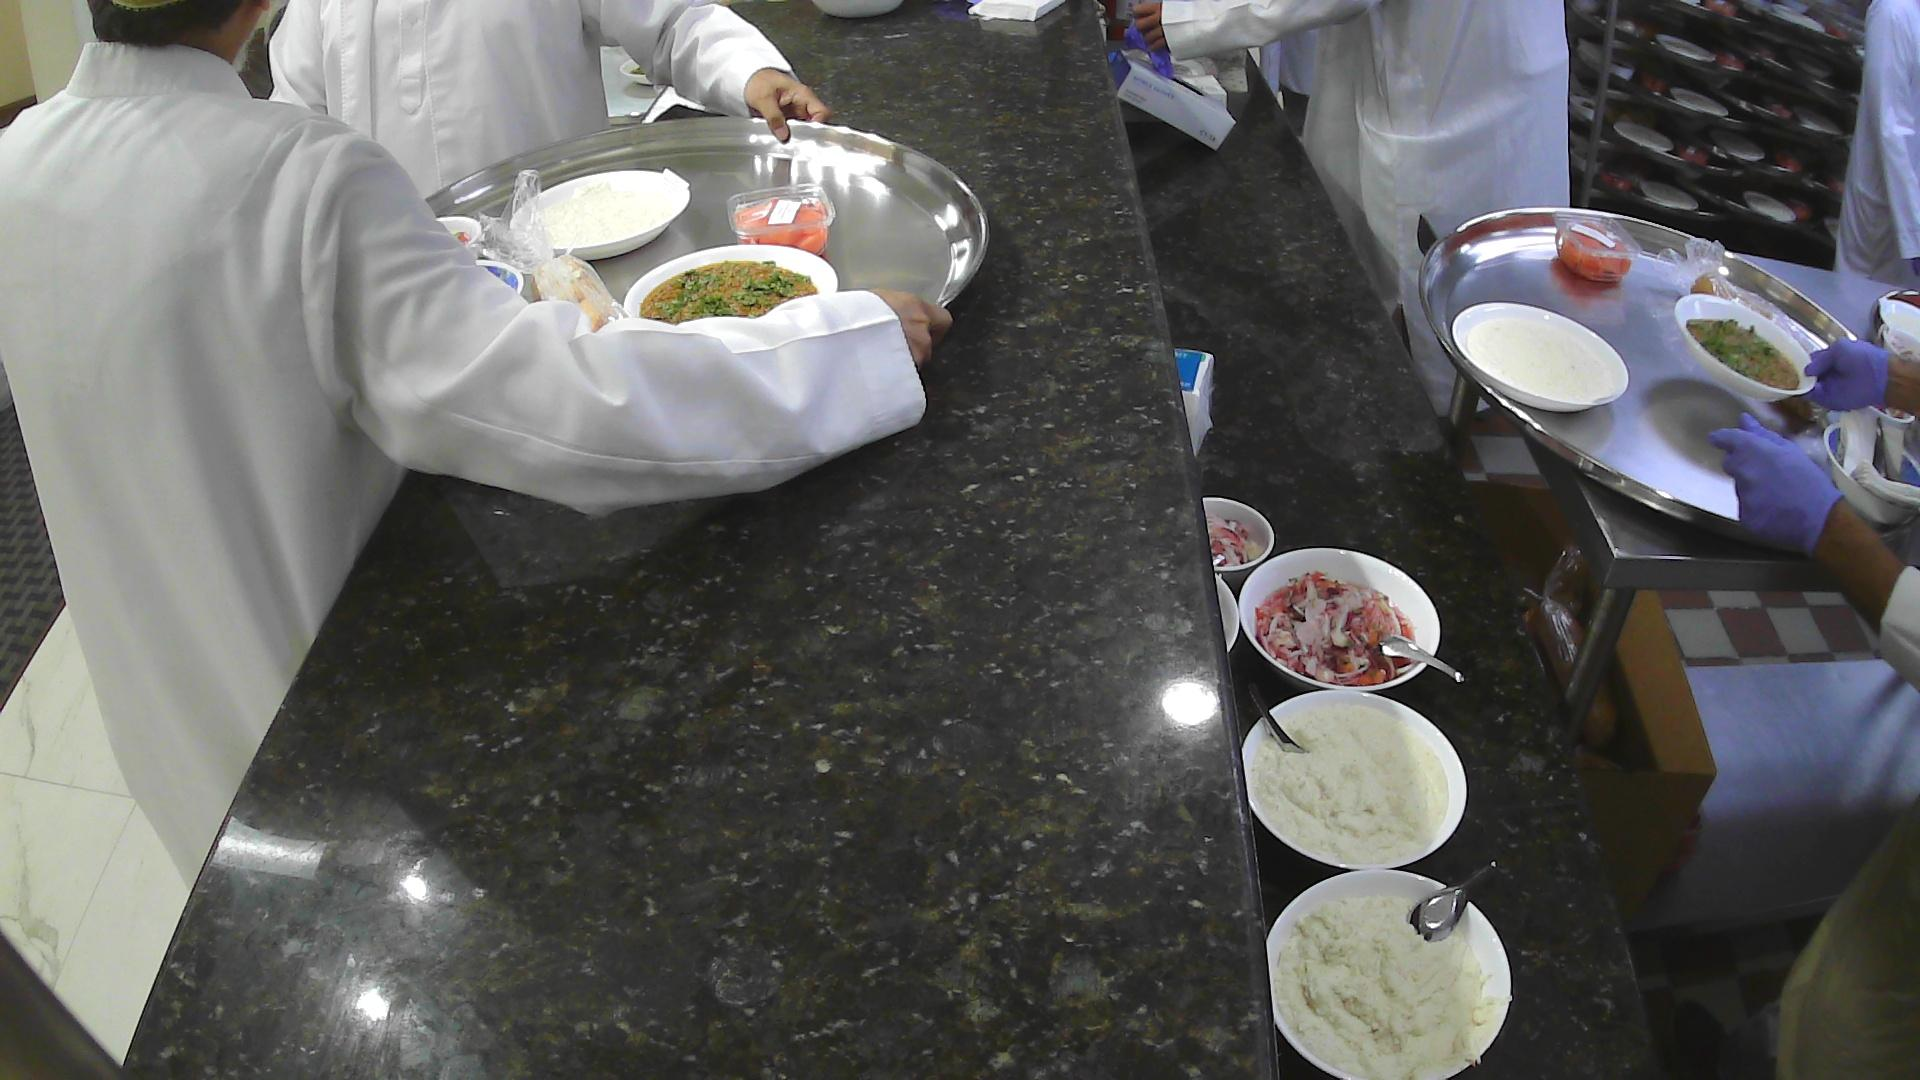thaal: (1418, 206, 1919, 555), (422, 115, 990, 316)
